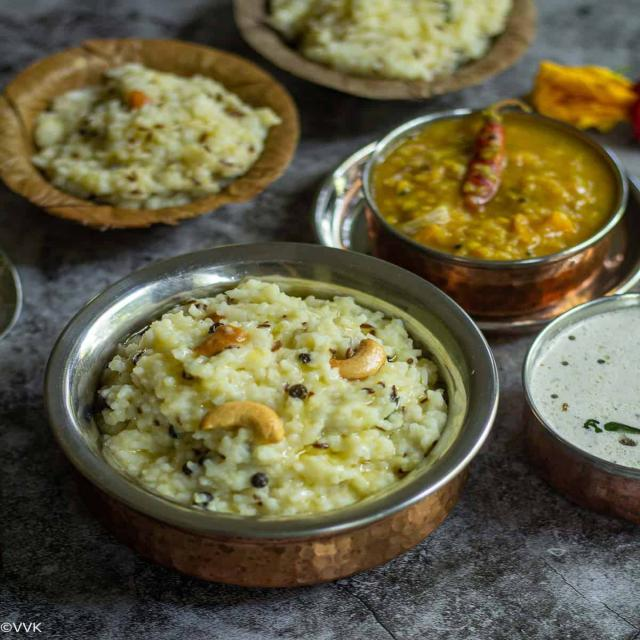khara pongal: (80, 256, 481, 534), (357, 83, 640, 287), (9, 41, 282, 240), (241, 0, 525, 88)
